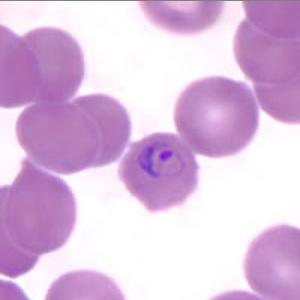Infected: (121, 130, 200, 212)
Uninfected: (5, 158, 77, 254), (173, 73, 254, 158), (17, 99, 93, 172), (11, 27, 81, 103), (236, 15, 300, 91), (69, 93, 131, 171), (242, 219, 300, 300), (0, 29, 43, 112)
